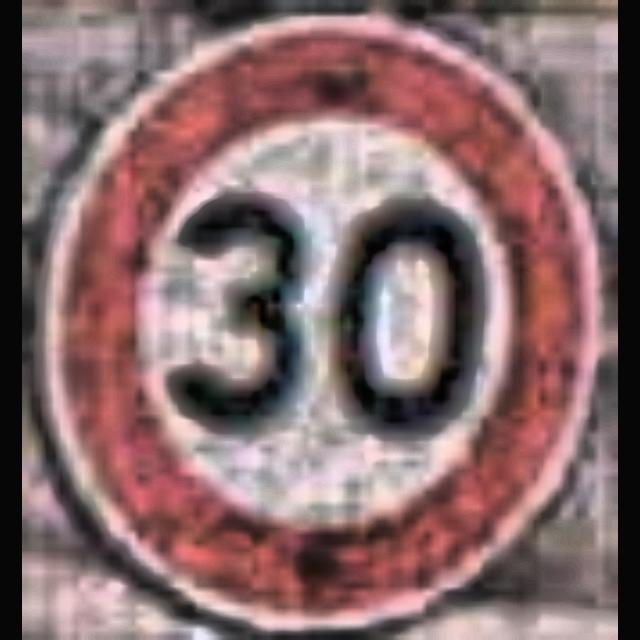speed_30: (63, 34, 591, 618)
